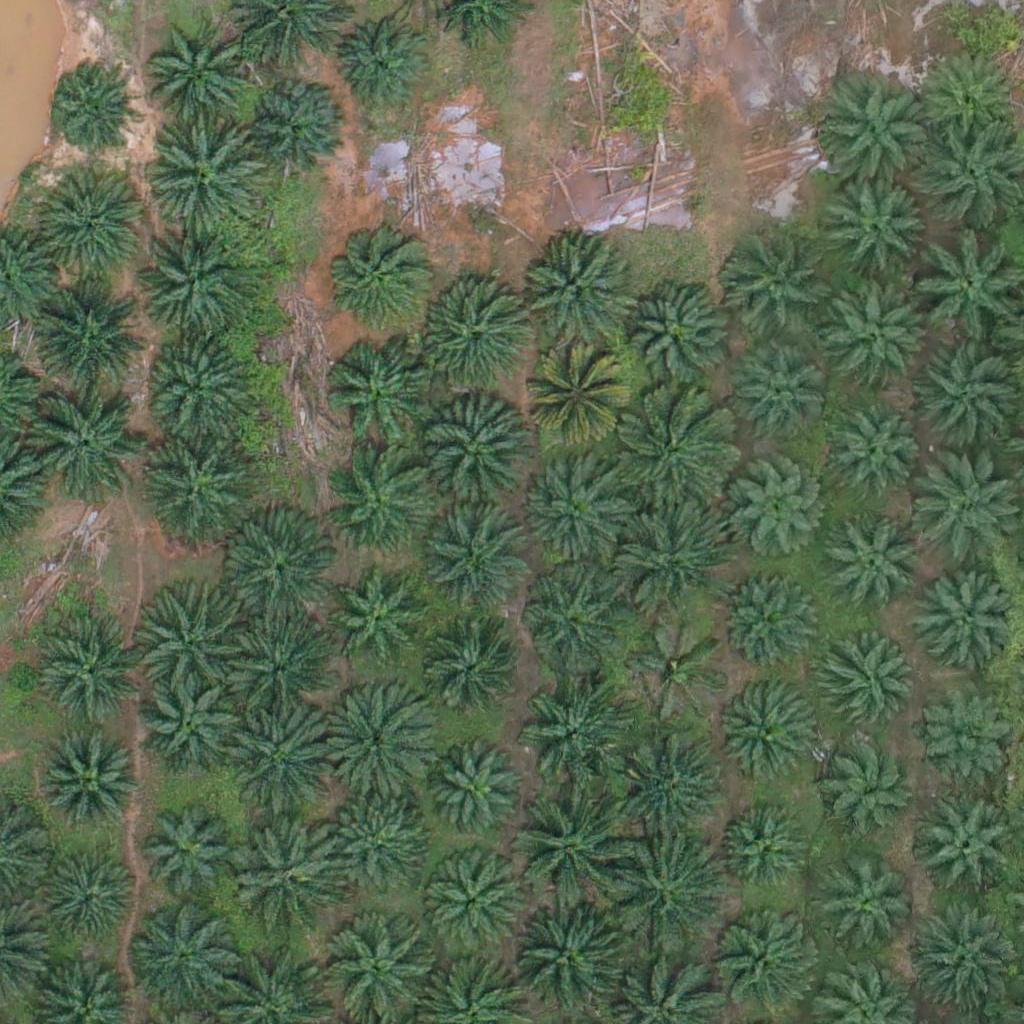Kelapa_Sawit: (512, 899, 625, 1013), (319, 683, 432, 797), (228, 699, 341, 813), (145, 326, 258, 440), (136, 231, 249, 345), (34, 167, 147, 281), (905, 908, 1018, 1021), (609, 724, 722, 837), (613, 504, 726, 617), (617, 392, 730, 505), (511, 793, 624, 906), (420, 399, 533, 512), (322, 341, 435, 454), (233, 817, 346, 930), (819, 78, 932, 191), (616, 280, 729, 393), (910, 456, 1022, 570), (609, 838, 721, 952), (325, 446, 437, 560), (126, 900, 238, 1014), (323, 218, 435, 332), (33, 275, 145, 389), (517, 672, 629, 785), (226, 521, 338, 634), (137, 429, 249, 542), (137, 577, 249, 690), (25, 386, 137, 499), (822, 268, 934, 381), (716, 231, 828, 344), (519, 237, 631, 350), (409, 281, 521, 394), (147, 8, 259, 121), (151, 122, 263, 235), (917, 572, 1017, 673), (921, 801, 1021, 902), (822, 514, 922, 615), (814, 634, 914, 735), (819, 734, 919, 835), (720, 569, 820, 670), (717, 685, 817, 786), (716, 911, 816, 1012), (518, 458, 618, 559), (520, 570, 620, 671), (426, 515, 526, 616), (421, 855, 521, 956), (327, 570, 427, 671), (138, 805, 238, 906), (139, 675, 239, 776), (919, 48, 1019, 149), (827, 182, 927, 283), (243, 75, 343, 176), (913, 684, 1013, 784), (723, 464, 823, 564), (629, 620, 729, 720), (524, 352, 624, 452), (418, 629, 518, 729), (329, 802, 429, 902), (229, 618, 329, 718), (40, 626, 140, 726), (41, 735, 141, 835), (41, 851, 141, 951), (332, 21, 432, 121), (431, 749, 519, 838), (719, 810, 807, 898), (834, 409, 921, 497), (823, 862, 910, 950), (736, 354, 823, 442), (47, 61, 134, 149)
